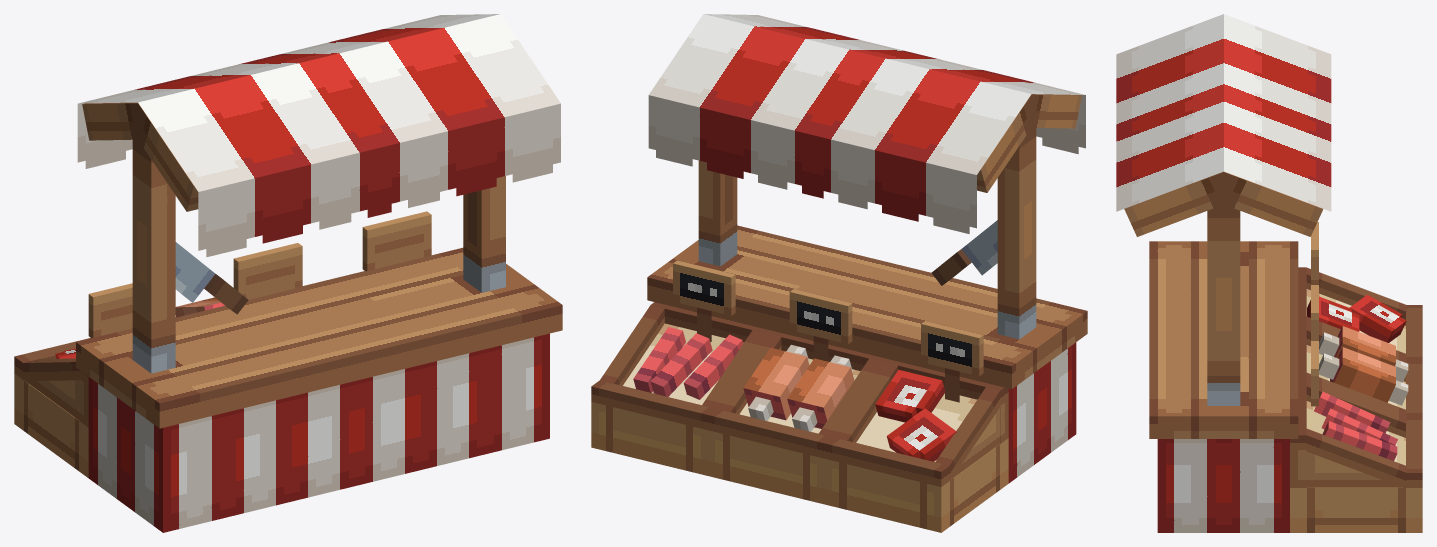
The model's file is meat-stall.gltf.
3 views of the same model, side by side, from view 1: azimuth 30°, elevation 25°; view 2: azimuth 150°, elevation 25°; view 3: azimuth 270°, elevation 25° (orthographic). The views are drawn at different scales.
Visible parts, largest first — view 1: cube (×19); view 2: cube (×42); view 3: cube (×34).
Boxes of the visible parts, x1,y1,x2,y2 form: cube (×19): [14, 14, 562, 532]; cube (×42): [591, 14, 1087, 532]; cube (×34): [1116, 14, 1422, 532].
Size of the model in its own units: 2.34 by 2.22 by 1.73.
Materials: 2 (2 with a texture image).
